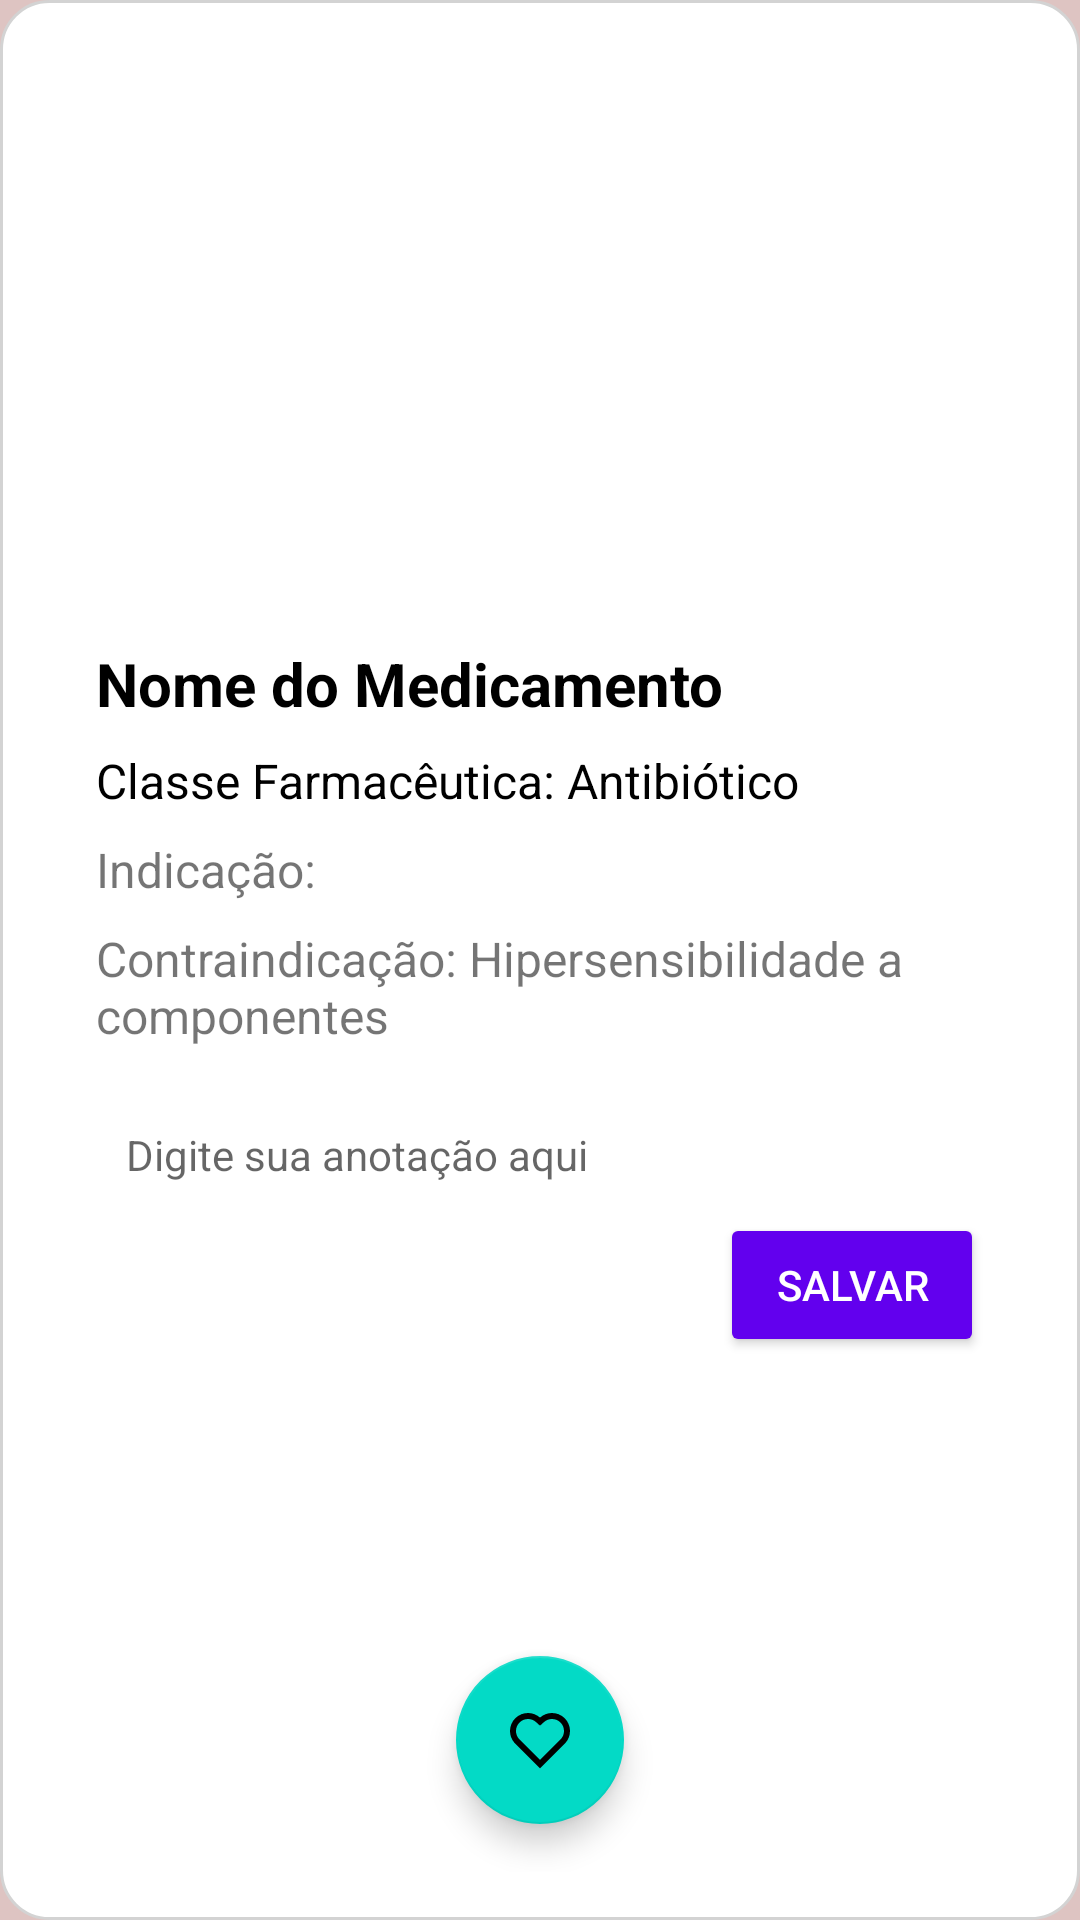

Named icons in this screenshot (1080 × 1920) and their centers, (x,y):
Favoritar: (540,1740)
